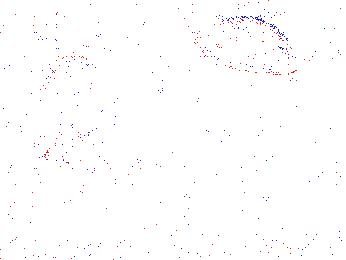moon jellyfish: (195, 17, 302, 75), (43, 140, 137, 192), (38, 56, 109, 124), (1, 1, 65, 66), (293, 1, 346, 77), (1, 74, 38, 140)
